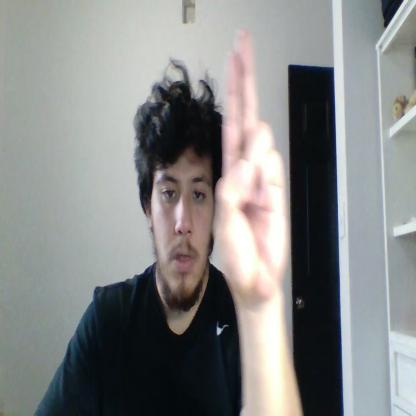U: (216, 35, 290, 305)
